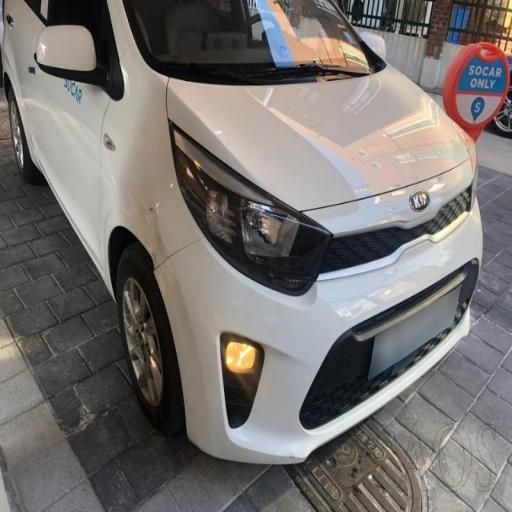dent: (99, 147, 221, 339)
